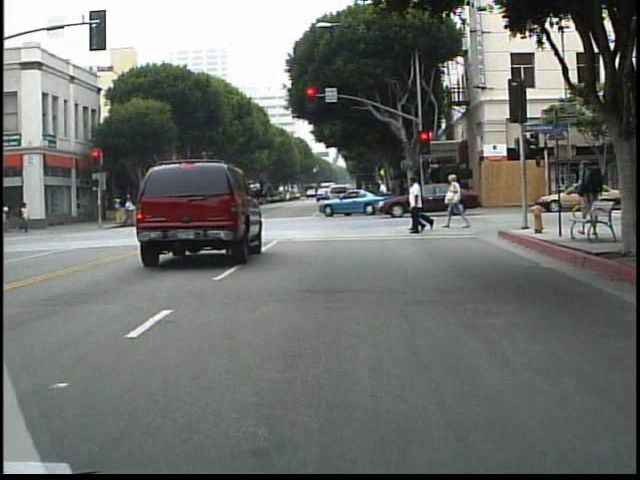person: (572, 154, 605, 205), (442, 173, 470, 230), (407, 177, 432, 234), (407, 177, 425, 232), (251, 181, 269, 229), (375, 177, 397, 215), (143, 190, 159, 232), (356, 180, 373, 216), (402, 179, 418, 215), (20, 202, 36, 237), (122, 193, 136, 230), (2, 200, 15, 235)
